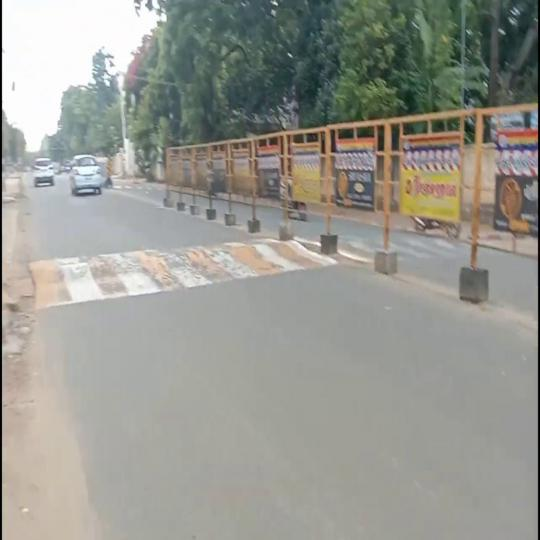Speed Bump: (26, 233, 319, 308), (397, 234, 468, 264), (338, 233, 374, 263)
